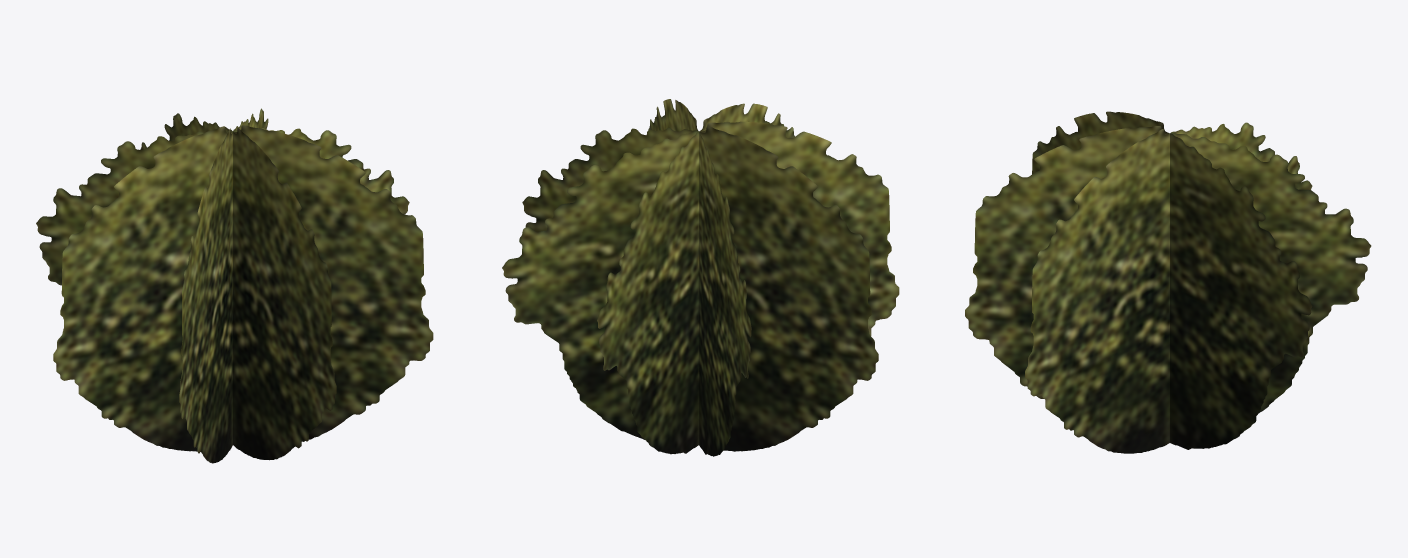
Rendered from shrub_photo_volume_b.glb.
The picture shows the model from 3 angles, left to right: view 1: azimuth 30°, elevation 25°; view 2: azimuth 150°, elevation 25°; view 3: azimuth 270°, elevation 25°; orthographic projection.
Parts seen in each view (by area): view 1: world; view 2: world; view 3: world.
Boxes of the visible parts, <box> form: world: <box>36,108,433,463</box>; world: <box>502,99,899,456</box>; world: <box>965,111,1371,453</box>.
Size of the model in its own units: 1.25 by 1.05 by 1.25.
Materials: 1 (1 with a texture image).
